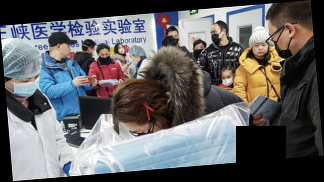with_mask: (268, 28, 294, 60), (11, 72, 42, 98), (210, 28, 224, 43), (221, 73, 235, 87), (193, 44, 206, 57), (98, 52, 111, 64), (168, 34, 180, 45), (129, 53, 139, 66), (90, 46, 97, 58)
without_mask: (252, 42, 270, 57), (60, 43, 72, 58), (118, 46, 126, 55)
